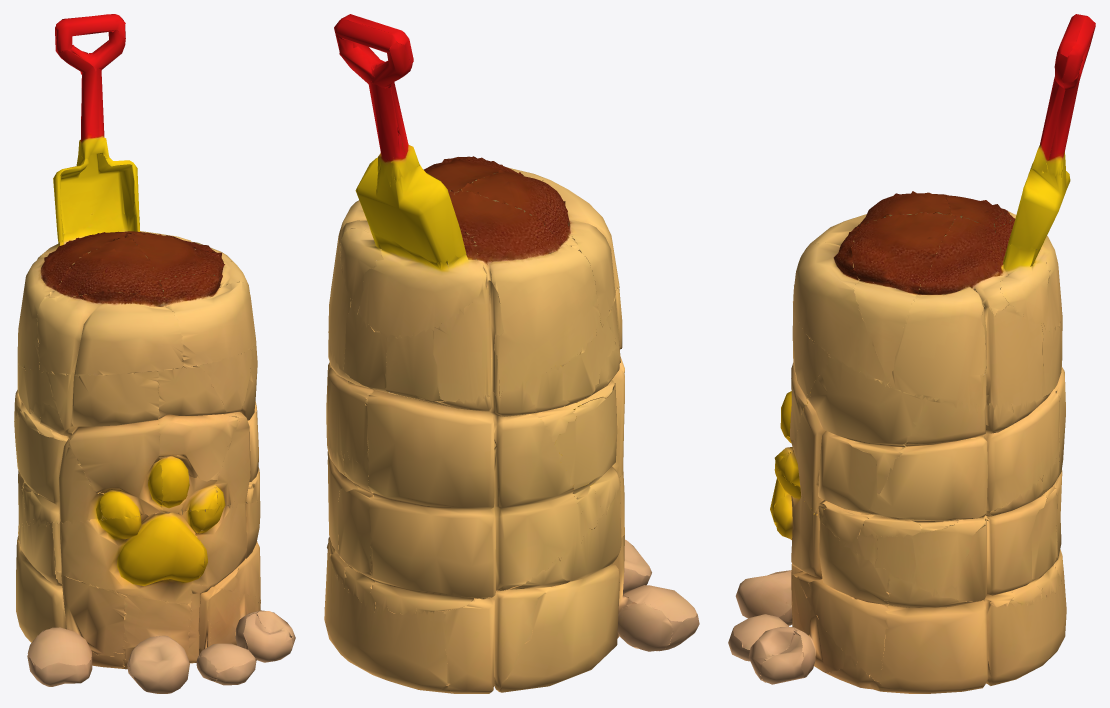
Rendered from dig.glb.
The picture shows the model from 3 angles, left to right: view 1: azimuth 30°, elevation 25°; view 2: azimuth 150°, elevation 25°; view 3: azimuth 270°, elevation 25°; orthographic projection. The views are drawn at different scales.
Parts seen in each view (by area): view 1: dig; view 2: dig; view 3: dig.
Boxes of the visible parts, bbox=[...] form: dig: bbox=[14, 14, 295, 693]; dig: bbox=[324, 14, 699, 693]; dig: bbox=[728, 14, 1095, 693].
Bounding box in the file's own units: 0.4758 × 1 × 0.5321.
Materials: 1 (1 with a texture image).
